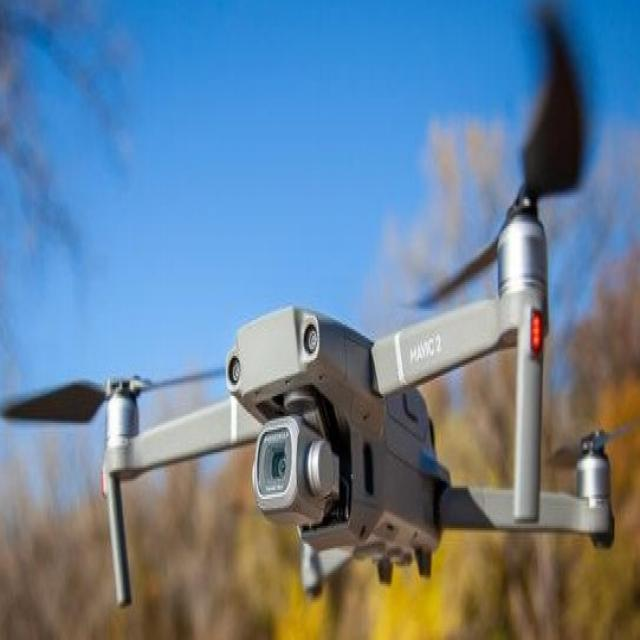drone: (7, 50, 634, 622)
